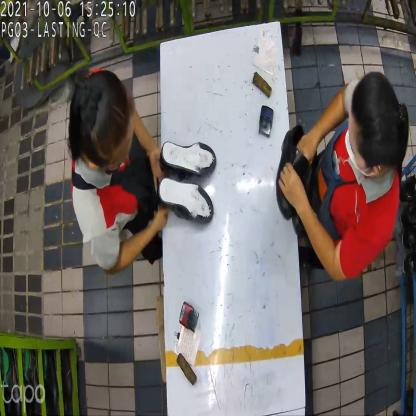shoes: (155, 139, 216, 221)
stamp: (256, 106, 276, 142), (180, 298, 198, 330)
